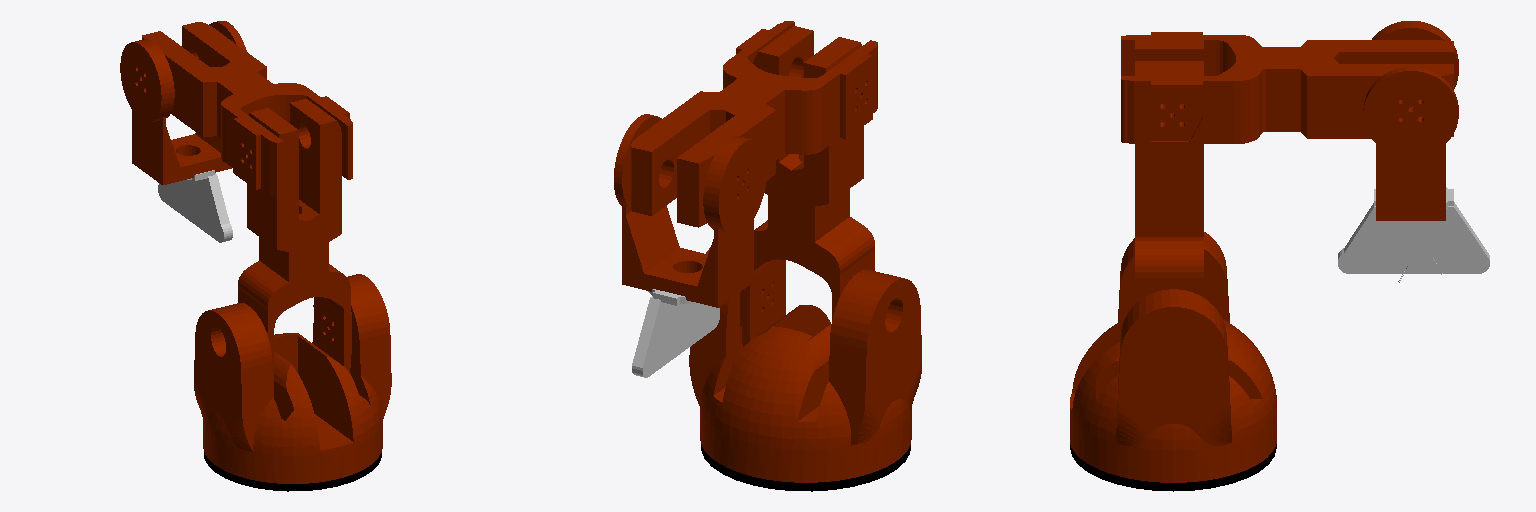
URDF robot description (BRT):
<?xml version="1.0"?>
<robot name="BRT">
    <gazebo>
     <plugin name="gazebo_ros_control" filename="libgazebo_ros_control.so">
       <robotNamespace>/robot</robotNamespace>
       <robotSimType>gazebo_ros_control/DefaultRobotHWSim</robotSimType>
       <controlPeriod>0.001</controlPeriod>
       <legacyModeNS>true</legacyModeNS>
     </plugin>
   </gazebo>
  <link name="base_link">
        <visual>
            <geometry>
                <cylinder length="0.01" radius="0.053" />
            </geometry>
            <material name="black" />
            <origin rpy="0 0 0" xyz="0 0 0" />
        </visual>
        <inertial>
            <origin rpy="0 0 0" xyz="0 0 0" />
            <mass value="0.1"/>
            <inertia ixx="0.1" ixy="0.0" ixz="0.0" iyy="0.1" iyz="0.0" izz="0.1"/>
        </inertial>
    </link>

    <link name="braccio_base_link">
        <visual>
            <geometry>
                <mesh filename="package://BRT_Description/meshes/braccio_base.stl" scale="0.01 0.01 0.01" />
            </geometry>
            <material name="orange" />
            <origin rpy="0 0 3.1416" xyz="0 0.004 0" />
        </visual>
        <collision>
            <geometry>
                <mesh filename="package://BRT_Description/meshes/braccio_base.stl" scale="0.01 0.01 0.01" />
            </geometry>
            <origin rpy="0 0 0" xyz="0 0 0" />
        </collision>
        <inertial>
            <origin rpy="0 0 0" xyz="0 0.002 0.031" />
            <mass value="0.1"/>
            <inertia ixx="0.1" ixy="0.0" ixz="0.0" iyy="0.1" iyz="0.0" izz="0.1"/>
        </inertial>
    </link>

    <link name="shoulder_link">
        <visual>
            <geometry>
                <mesh filename="package://BRT_Description/meshes/braccio_shoulder.stl" scale="0.01 0.01 0.01" />
            </geometry>
            <material name="orange" />
            <origin rpy="0 0 0" xyz="-0.0045 0.0055 -0.026" />
        </visual>
        <collision>
            <geometry>
                <mesh filename="package://BRT_Description/meshes/braccio_shoulder.stl" scale="0.01 0.01 0.01" />
            </geometry>
            <origin rpy="0 0 0" xyz="-0.0045 0.0055 -0.026" />
        </collision>
        <inertial>
            <origin rpy="0 0 0" xyz="0 0.002 0.062" />
            <mass value="0.1"/>
            <inertia ixx="0.1" ixy="0.0" ixz="0.0" iyy="0.1" iyz="0.0" izz="0.1"/>
        </inertial>
    </link>

    <link name="elbow_link">
        <visual>
            <geometry>
                <mesh filename="package://BRT_Description/meshes/braccio_elbow.stl" scale="0.01 0.01 0.01" />
            </geometry>
            <material name="orange" />
            <origin rpy="0 0 0" xyz="-0.0045 0.005 -0.025" />
        </visual>
        <collision>
            <geometry>
                <mesh filename="package://BRT_Description/meshes/braccio_elbow.stl" scale="0.01 0.01 0.01" />
            </geometry>
            <origin rpy="0 0 0" xyz="-0.0045 0.005 -0.025" />
        </collision>
        <inertial>
            <origin rpy="0 0 0" xyz="0 0.002 0.062" />
            <mass value="0.1"/>
            <inertia ixx="0.1" ixy="0.0" ixz="0.0" iyy="0.1" iyz="0.0" izz="0.1"/>
        </inertial>
    </link>

    <link name="wrist_pitch_link">
        <visual>
            <geometry>
                <mesh filename="package://BRT_Description/meshes/braccio_wrist_pitch.stl" scale="0.01 0.01 0.01" />
            </geometry>
            <material name="orange" />
            <origin rpy="0 0 0" xyz="0.003 -0.0004 -0.024" />
        </visual>
        <collision>
            <geometry>
                <mesh filename="package://BRT_Description/meshes/braccio_wrist_pitch.stl" scale="0.01 0.01 0.01" />
            </geometry>
            <origin rpy="0 0 0" xyz="0.003 -0.0004 -0.024" />
        </collision>
        <inertial>
            <origin rpy="0 0 0" xyz="-0.004 -0.002 0.032" />
            <mass value="0.1"/>
            <inertia ixx="0.1" ixy="0.0" ixz="0.0" iyy="0.1" iyz="0.0" izz="0.1"/>
        </inertial>
    </link>

    <link name="wrist_roll_link">
        <visual>
            <geometry>
                <mesh filename="package://BRT_Description/meshes/braccio_wrist_roll.stl" scale="0.01 0.01 0.01" />
            </geometry>
            <material name="white" />
            <origin rpy="0 0 0" xyz="0.006 0 0.0" />
        </visual>
        <collision>
            <geometry>
                <mesh filename="package://BRT_Description/meshes/braccio_wrist_roll.stl" scale="0.01 0.01 0.01" />
            </geometry>
            <origin rpy="0 0 0" xyz="0.006 0 0.0" />
        </collision>
        <inertial>
            <origin rpy="0 0 0" xyz="-0.007 -0.002 0.018" />
            <mass value="0.1"/>
            <inertia ixx="0.1" ixy="0.0" ixz="0.0" iyy="0.1" iyz="0.0" izz="0.1"/>
        </inertial>
    </link>

    <link name="left_gripper_link">
        <visual>
            <geometry>
                <mesh filename="package://BRT_Description/meshes/braccio_left_gripper.stl" scale="0.001 0.001 0.001" />
            </geometry>
            <material name="white" />
            <origin rpy="0 1.5708 0" xyz="0 -0.012 0" />
        </visual>

        <inertial>
            <origin rpy="0 0 0" xyz="0.043 0.001 0.002" />
            <mass value="0.1" />
            <inertia ixx="0.000348958333333" ixy="0" ixz="0" iyy="0.000348958333333" iyz="0" izz="3.125e-05" />
        </inertial>

        <collision>
            <origin rpy="0 1.5708 0" xyz="0 -0.012 0" />
            <geometry>
                <mesh filename="package://BRT_Description/meshes/braccio_left_gripper.stl" scale="0.001 0.001 0.001" />
            </geometry>
        </collision>
    </link>
    <link name="right_gripper_link">
        <visual>
            <geometry>
                <mesh filename="package://BRT_Description/meshes/braccio_right_gripper.stl" scale="0.001 0.001 0.001" />
            </geometry>
            <material name="white" />
            <origin rpy="0 1.5708 0" xyz="0 -0.012 0.010" />
        </visual>

        <inertial>
            <origin rpy="0 0 0" xyz="0.043 0.001 0.002" />
            <mass value="0.1" />
            <inertia ixx="0.000348958333333" ixy="0" ixz="0" iyy="0.000348958333333" iyz="0" izz="3.125e-05" />
        </inertial>

        <collision>
            <origin rpy="0 1.5708 0" xyz="0 -0.012 0.010" />
            <geometry>
                <mesh filename="package://BRT_Description/meshes/braccio_right_gripper.stl" scale="0.001 0.001 0.001" />
            </geometry>
        </collision>
    </link>

    <joint name="base_joint" type="revolute">
        <axis xyz="0 0 -1" />
        <limit effort="1000.0" lower="0.0" upper="3.1416" velocity="1.0" />
        <origin rpy="0 0 0" xyz="0 0 0" />
        <parent link="base_link" />
        <child link="braccio_base_link" />
        <dynamics damping="0.1" friction="0.001" />
    </joint>

    <joint name="shoulder_joint" type="revolute">
        <axis xyz="1 0 0" />
        <limit effort="1000.0" lower="0.2618" upper="2.8798" velocity="1.0" />
        <origin rpy="-1.5708 0 0" xyz="0 -.002 0.072" />
        <parent link="braccio_base_link" />
        <child link="shoulder_link" />
        <dynamics damping="0.1" friction="0.001" />
    </joint>

    <joint name="elbow_joint" type="revolute">
        <axis xyz="1 0 0" />
        <limit effort="1000.0" lower="0" upper="3.1416" velocity="1.0" />
        <origin rpy="-1.5708 0 0" xyz="0 0 0.125" />
        <parent link="shoulder_link" />
        <child link="elbow_link" />
        <dynamics damping="0.1" friction="0.001" />
    </joint>

    <joint name="wrist_pitch_joint" type="revolute">
        <axis xyz="1 0 0" />
        <limit effort="1000.0" lower="0" upper="3.1416" velocity="1.0" />
        <origin rpy="-1.5708 0 0" xyz="0 0 0.125" />
        <parent link="elbow_link" />
        <child link="wrist_pitch_link" />
        <dynamics damping="0.1" friction="0.001" />
    </joint>

    <joint name="wrist_roll_joint" type="revolute">
        <axis xyz="0 0 -1" />
        <limit effort="1000.0" lower="0.0" upper="3.1416" velocity="1.0" />
        <origin rpy="0 0 1.5708" xyz="0 0.0 0.06" />
        <parent link="wrist_pitch_link" />
        <child link="wrist_roll_link" />
        <dynamics damping="0.1" friction="0.001" />
    </joint>

    <joint name="gripper_joint" type="revolute">
        <axis xyz="0 -1 0" />
        <limit effort="10.0" lower="0.1750" upper="1.2741" velocity="1.0" />
        <origin rpy="0 -0.2967 0" xyz="0.010 0 0.03" />
        <parent link="wrist_roll_link" />
        <child link="right_gripper_link" />
        <dynamics damping="0.1" friction="0.001" />
    </joint>
    <joint name="sub_gripper_joint" type="revolute">
        <axis xyz="0 1 0" />
        <limit effort="10.0" lower="0.1750" upper="1.2741" velocity="1.0" />
        <origin rpy="0 3.4383 0" xyz="-0.010 0 0.03" />
        <parent link="wrist_roll_link" />
        <child link="left_gripper_link" />
        <dynamics damping="0.1" friction="0.001" />
    </joint>

    <material name="orange">
        <color rgba="0.57 0.17 0.0 1" />
    </material>
    <material name="white">
        <color rgba="0.8 0.8 0.8 1.0" />
    </material>
    <material name="black">
        <color rgba="0 0 0 0.50" />
    </material>

  <transmission name="base_trasmision">
    <type>transmission_interface/SimpleTransmission</type>
    <joint name="base_joint">
      <hardwareInterface>hardware_interface/EffortJointInterface</hardwareInterface>
    </joint>
    <actuator name="base_motor">
      <hardwareInterface>hardware_interface/EffortJointInterface</hardwareInterface>
      <mechanicalReduction>1</mechanicalReduction>
    </actuator>
  </transmission>
  <transmission name="shoulder_trasmision">
    <type>transmission_interface/SimpleTransmission</type>
    <joint name="shoulder_joint">
      <hardwareInterface>hardware_interface/EffortJointInterface</hardwareInterface>
    </joint>
    <actuator name="shoulder_motor">
      <hardwareInterface>hardware_interface/EffortJointInterface</hardwareInterface>
      <mechanicalReduction>1</mechanicalReduction>
    </actuator>
  </transmission>
  <transmission name="elbow_trasmision">
    <type>transmission_interface/SimpleTransmission</type>
    <joint name="elbow_joint">
      <hardwareInterface>hardware_interface/EffortJointInterface</hardwareInterface>
    </joint>
    <actuator name="elbow_motor">
      <hardwareInterface>hardware_interface/EffortJointInterface</hardwareInterface>
      <mechanicalReduction>1</mechanicalReduction>
    </actuator>
  </transmission>
  <transmission name="wrist_pitch_trasmision">
    <type>transmission_interface/SimpleTransmission</type>
    <joint name="wrist_pitch_joint">
      <hardwareInterface>hardware_interface/EffortJointInterface</hardwareInterface>
    </joint>
    <actuator name="wrist_pitch_motor">
      <hardwareInterface>hardware_interface/EffortJointInterface</hardwareInterface>
      <mechanicalReduction>1</mechanicalReduction>
    </actuator>
  </transmission>
  <transmission name="wrist_roll_trasmision">
    <type>transmission_interface/SimpleTransmission</type>
    <joint name="wrist_roll_joint">
      <hardwareInterface>hardware_interface/EffortJointInterface</hardwareInterface>
    </joint>
    <actuator name="wrist_roll_motor">
      <hardwareInterface>hardware_interface/EffortJointInterface</hardwareInterface>
      <mechanicalReduction>1</mechanicalReduction>
    </actuator>
  </transmission>
  <transmission name="gripper_trasmision">
    <type>transmission_interface/SimpleTransmission</type>
    <joint name="gripper_joint">
      <hardwareInterface>hardware_interface/EffortJointInterface</hardwareInterface>
    </joint>
    <actuator name="gripper_motor">
      <hardwareInterface>hardware_interface/EffortJointInterface</hardwareInterface>
      <mechanicalReduction>1</mechanicalReduction>
    </actuator>
  </transmission>
  <transmission name="sub_gripper_trasmision">
    <type>transmission_interface/SimpleTransmission</type>
    <joint name="sub_gripper_joint">
      <hardwareInterface>hardware_interface/EffortJointInterface</hardwareInterface>
    </joint>
    <actuator name="sub_gripper_motor">
      <hardwareInterface>hardware_interface/EffortJointInterface</hardwareInterface>
      <mechanicalReduction>1</mechanicalReduction>
    </actuator>
  </transmission>
   <gazebo reference="braccio_base_link">
    <material>Gazebo/Orange</material>
  </gazebo>
  <gazebo reference="shoulder_link">
    <material>Gazebo/Orange</material>
  </gazebo>
  <gazebo reference="elbow_link">
    <material>Gazebo/Orange</material>
  </gazebo>
  <gazebo reference="wrist_pitch_link">
    <material>Gazebo/Orange</material>
  </gazebo>
  <gazebo reference="wrist_roll_link">
    <material>Gazebo/Orange</material>
  </gazebo>
  <gazebo reference="right_gripper_link">
    <material>Gazebo/White</material>
  </gazebo>
  <gazebo reference="left_gripper_link">
    <material>Gazebo/White</material>
  </gazebo>
  <gazebo reference="base_link">
    <material>Gazebo/Orange</material>
  </gazebo>
  <link name="world"/>
  <joint name="world_joint" type="fixed">
    <parent link="world"/>
    <child link="base_link"/>
    <origin rpy="0.0 0.0 0.0" xyz="0.0 0.0 0.0"/>
  </joint>
</robot>

--- Facts derived from the render (not from the file) ---
Views: 3 orthographic renders of the robot side by side, from view 1: azimuth 30°, elevation 25°; view 2: azimuth 150°, elevation 25°; view 3: azimuth 270°, elevation 25°.
Robot: BRT — 9 links, 8 joints (7 revolute, 1 fixed); root link world; default pose: all joints at 0 but 3 set to mid-range because 0 is outside their limits (shoulder_joint = 1.57, gripper_joint = 0.7246, sub_gripper_joint = 0.7246).
Links seen in each view (by area): view 1: braccio_base_link, shoulder_link, elbow_link, wrist_pitch_link, wrist_roll_link, base_link; view 2: braccio_base_link, elbow_link, shoulder_link, wrist_pitch_link, wrist_roll_link, base_link; view 3: braccio_base_link, elbow_link, wrist_pitch_link, shoulder_link, wrist_roll_link, base_link.
Boxes of the visible links, x1,y1,x2,y2 form: braccio_base_link: (194, 274, 391, 483); shoulder_link: (238, 99, 351, 396); elbow_link: (142, 22, 352, 196); wrist_pitch_link: (120, 21, 246, 184); wrist_roll_link: (158, 170, 232, 242); base_link: (204, 452, 381, 491); braccio_base_link: (689, 247, 921, 482); elbow_link: (631, 21, 877, 227); shoulder_link: (740, 26, 874, 346); wrist_pitch_link: (614, 114, 766, 307); wrist_roll_link: (632, 289, 719, 377); base_link: (701, 445, 910, 491); braccio_base_link: (1070, 232, 1276, 482); elbow_link: (1121, 32, 1453, 147); wrist_pitch_link: (1363, 21, 1458, 220); shoulder_link: (1135, 39, 1203, 303); wrist_roll_link: (1338, 187, 1489, 273); base_link: (1070, 444, 1276, 491).
Size in the robot's own frame: 0.1065 by 0.2158 by 0.226 metres.
Meshes: 7 distinct files referenced, 7 mesh visuals loaded (7 binary STL).